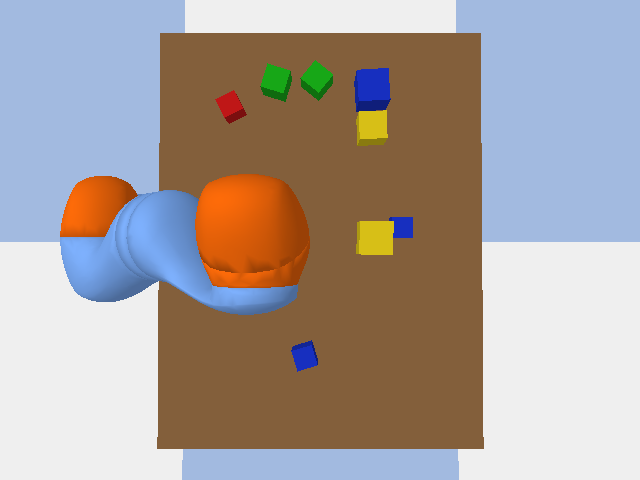blue_obj: (354, 68, 390, 111), (291, 340, 317, 371), (389, 217, 412, 237)
green_obj: (300, 60, 332, 100), (260, 63, 291, 101)
red_obj: (215, 90, 246, 123)
yellow_obj: (356, 221, 393, 254), (356, 110, 387, 145)
